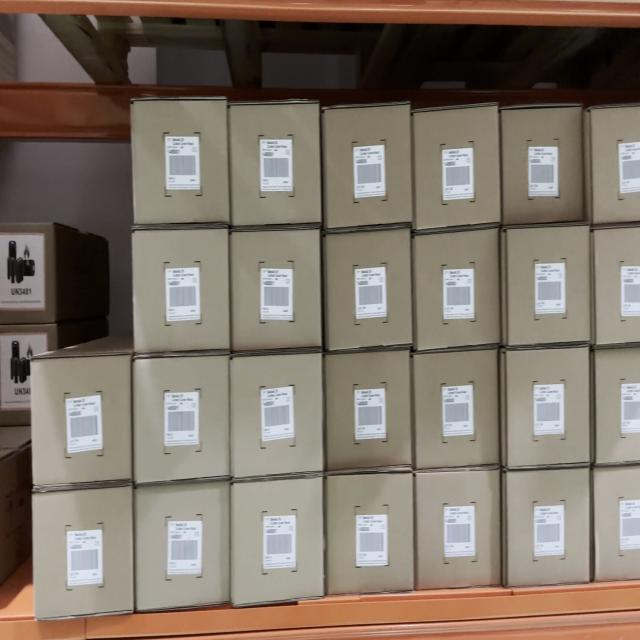box: (32, 364, 130, 481), (34, 496, 132, 612), (136, 358, 226, 479), (132, 103, 225, 220), (135, 235, 227, 350), (232, 231, 320, 351), (232, 108, 320, 226), (137, 490, 226, 606), (232, 361, 320, 476), (325, 109, 410, 228), (235, 485, 321, 601), (327, 477, 413, 591), (327, 232, 412, 346), (502, 112, 587, 224), (506, 474, 590, 587), (416, 356, 498, 468), (508, 352, 589, 465), (326, 358, 410, 466), (418, 474, 499, 583), (510, 231, 589, 342), (417, 116, 496, 225), (418, 238, 497, 347)
